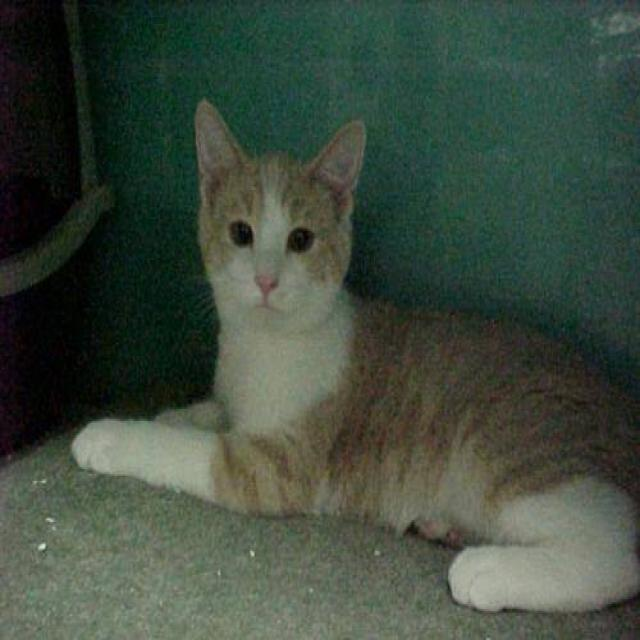Cat: (179, 75, 387, 342)
